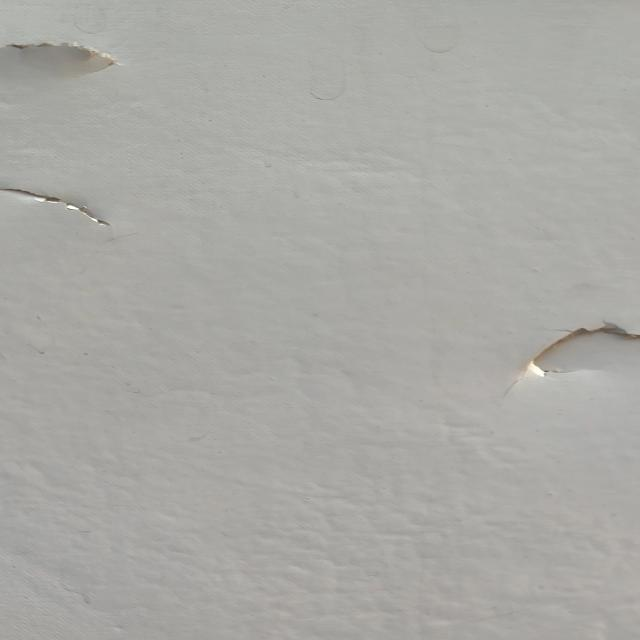Scratches: (463, 311, 640, 387), (1, 25, 151, 87), (1, 179, 141, 243)
